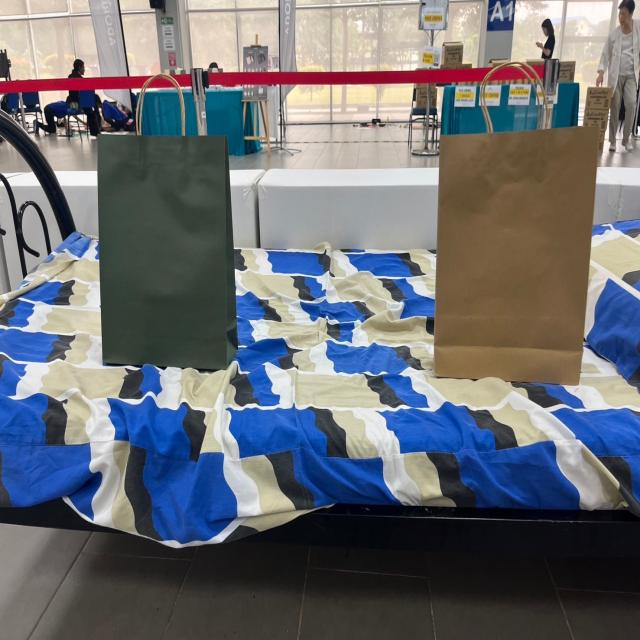bag: (445, 74, 576, 376), (99, 80, 228, 363)
